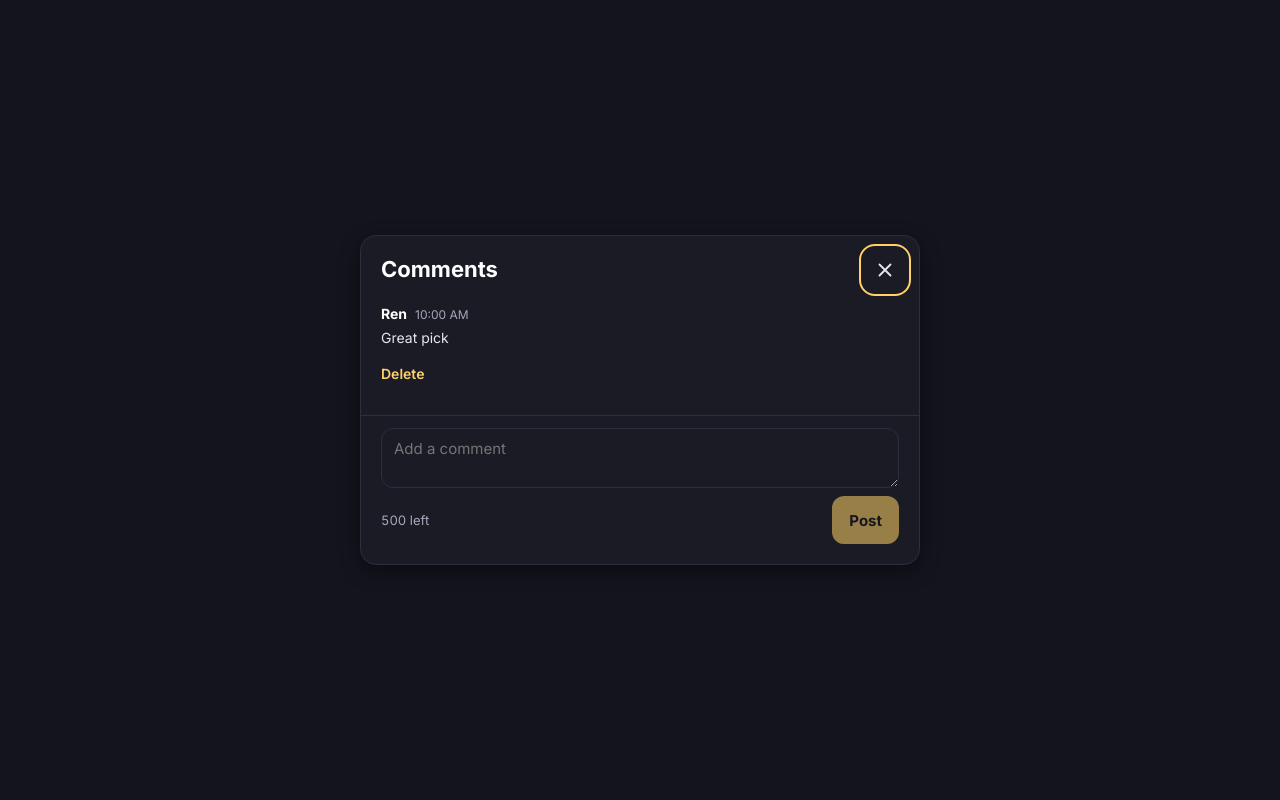
Scenario: CommentsSheet › the admin sees Delete on anyone's comment (AD7)
Click the button with aria-label "Delete comment by Ren".
click(403, 373)  # box [381, 351, 424, 395]
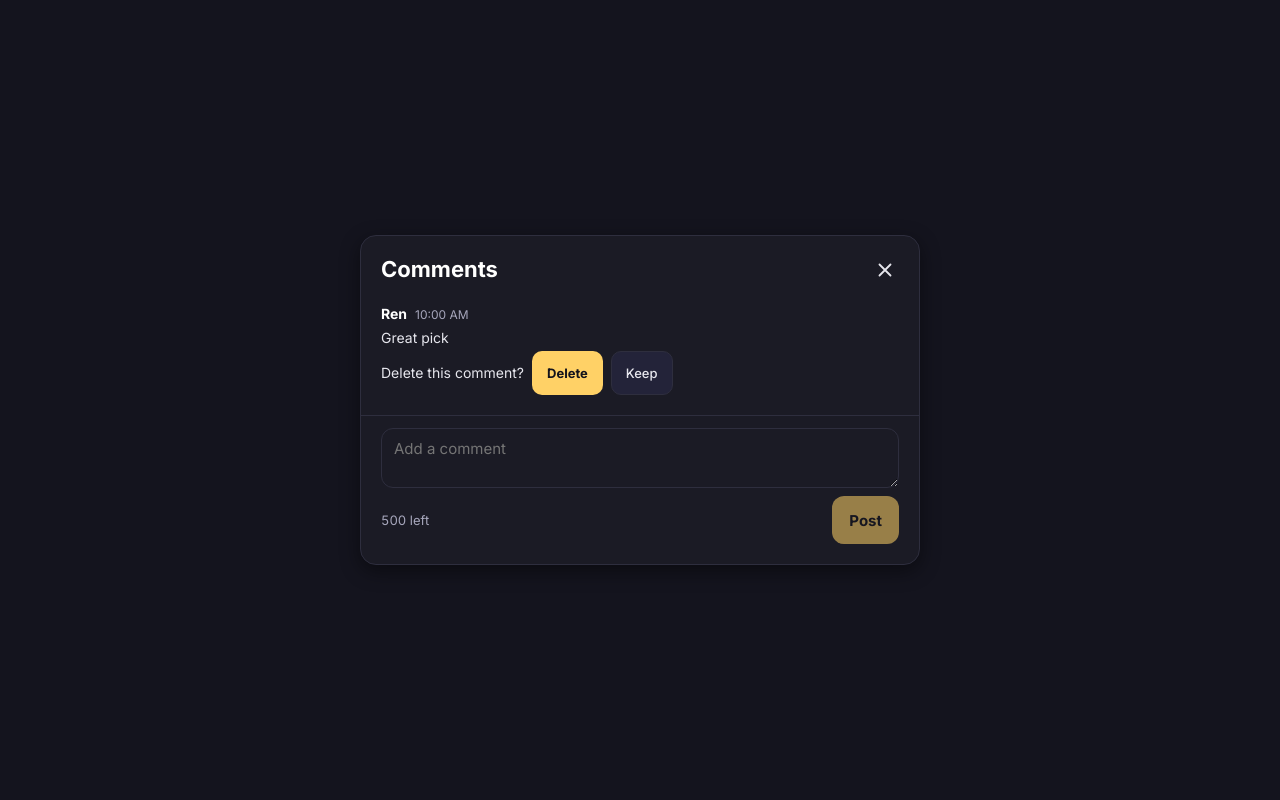
Check: the element "Delete this comment?" is shown, box [381, 351, 672, 395]
